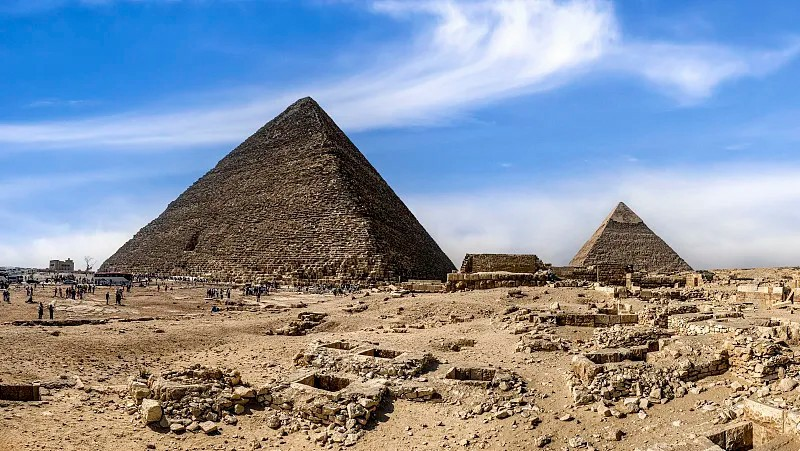Pyramid: (97, 95, 457, 289), (571, 202, 695, 276)
